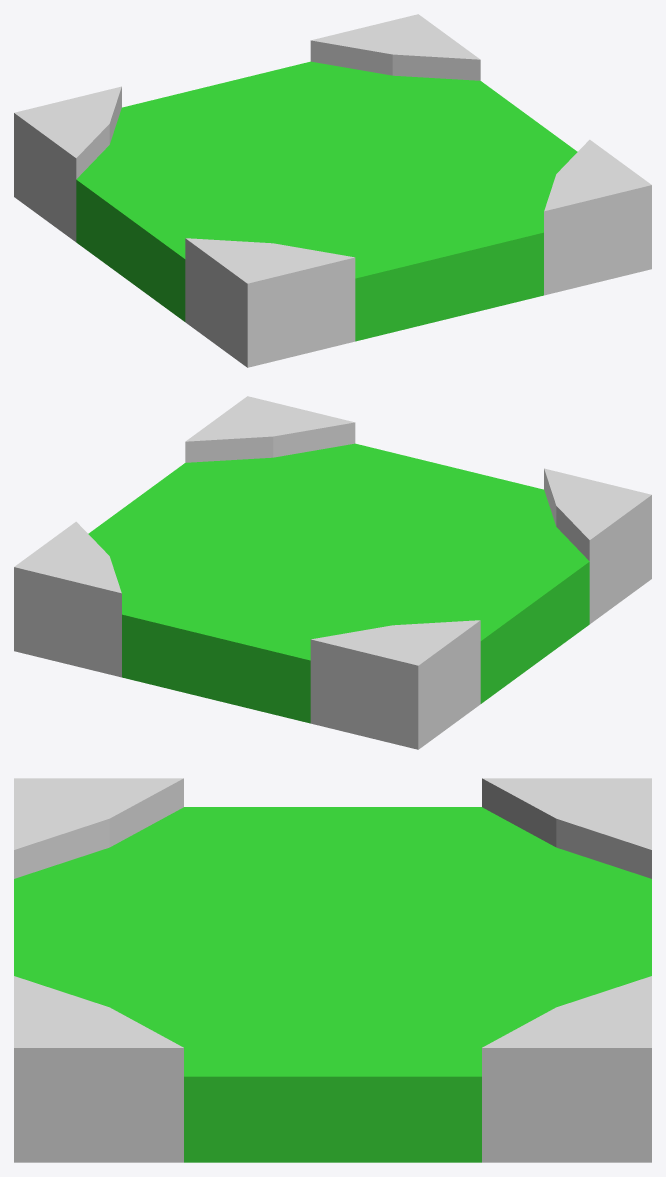
File: RoadGrassXLine.fbx
3 views of the same model, one above another, from view 1: azimuth 30°, elevation 25°; view 2: azimuth 150°, elevation 25°; view 3: azimuth 270°, elevation 25° (orthographic). The views are drawn at different scales.
Visible parts, largest first — view 1: RoadGrassXLine; view 2: RoadGrassXLine; view 3: RoadGrassXLine.
Part boxes in pixels (x1,y1,x2,y2): RoadGrassXLine: (14, 14, 651, 367); RoadGrassXLine: (14, 396, 651, 749); RoadGrassXLine: (14, 778, 651, 1162).
Size of the model in its own units: 200 by 39.76 by 200.
